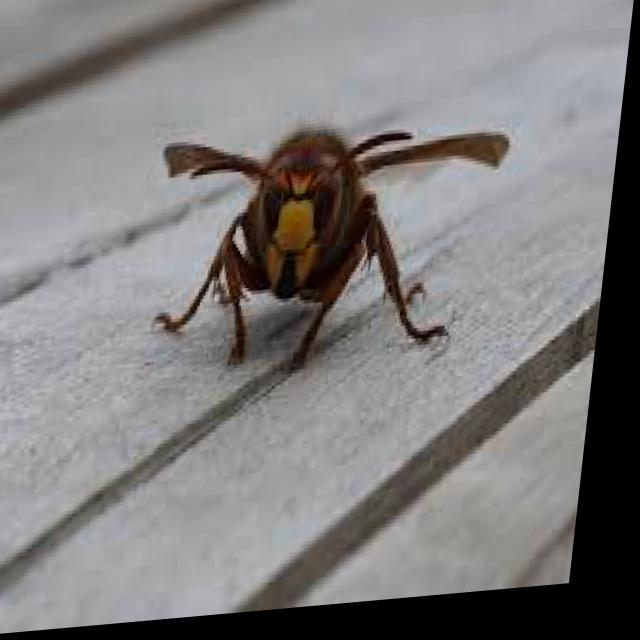Vespa Velutina: (135, 99, 522, 432)
